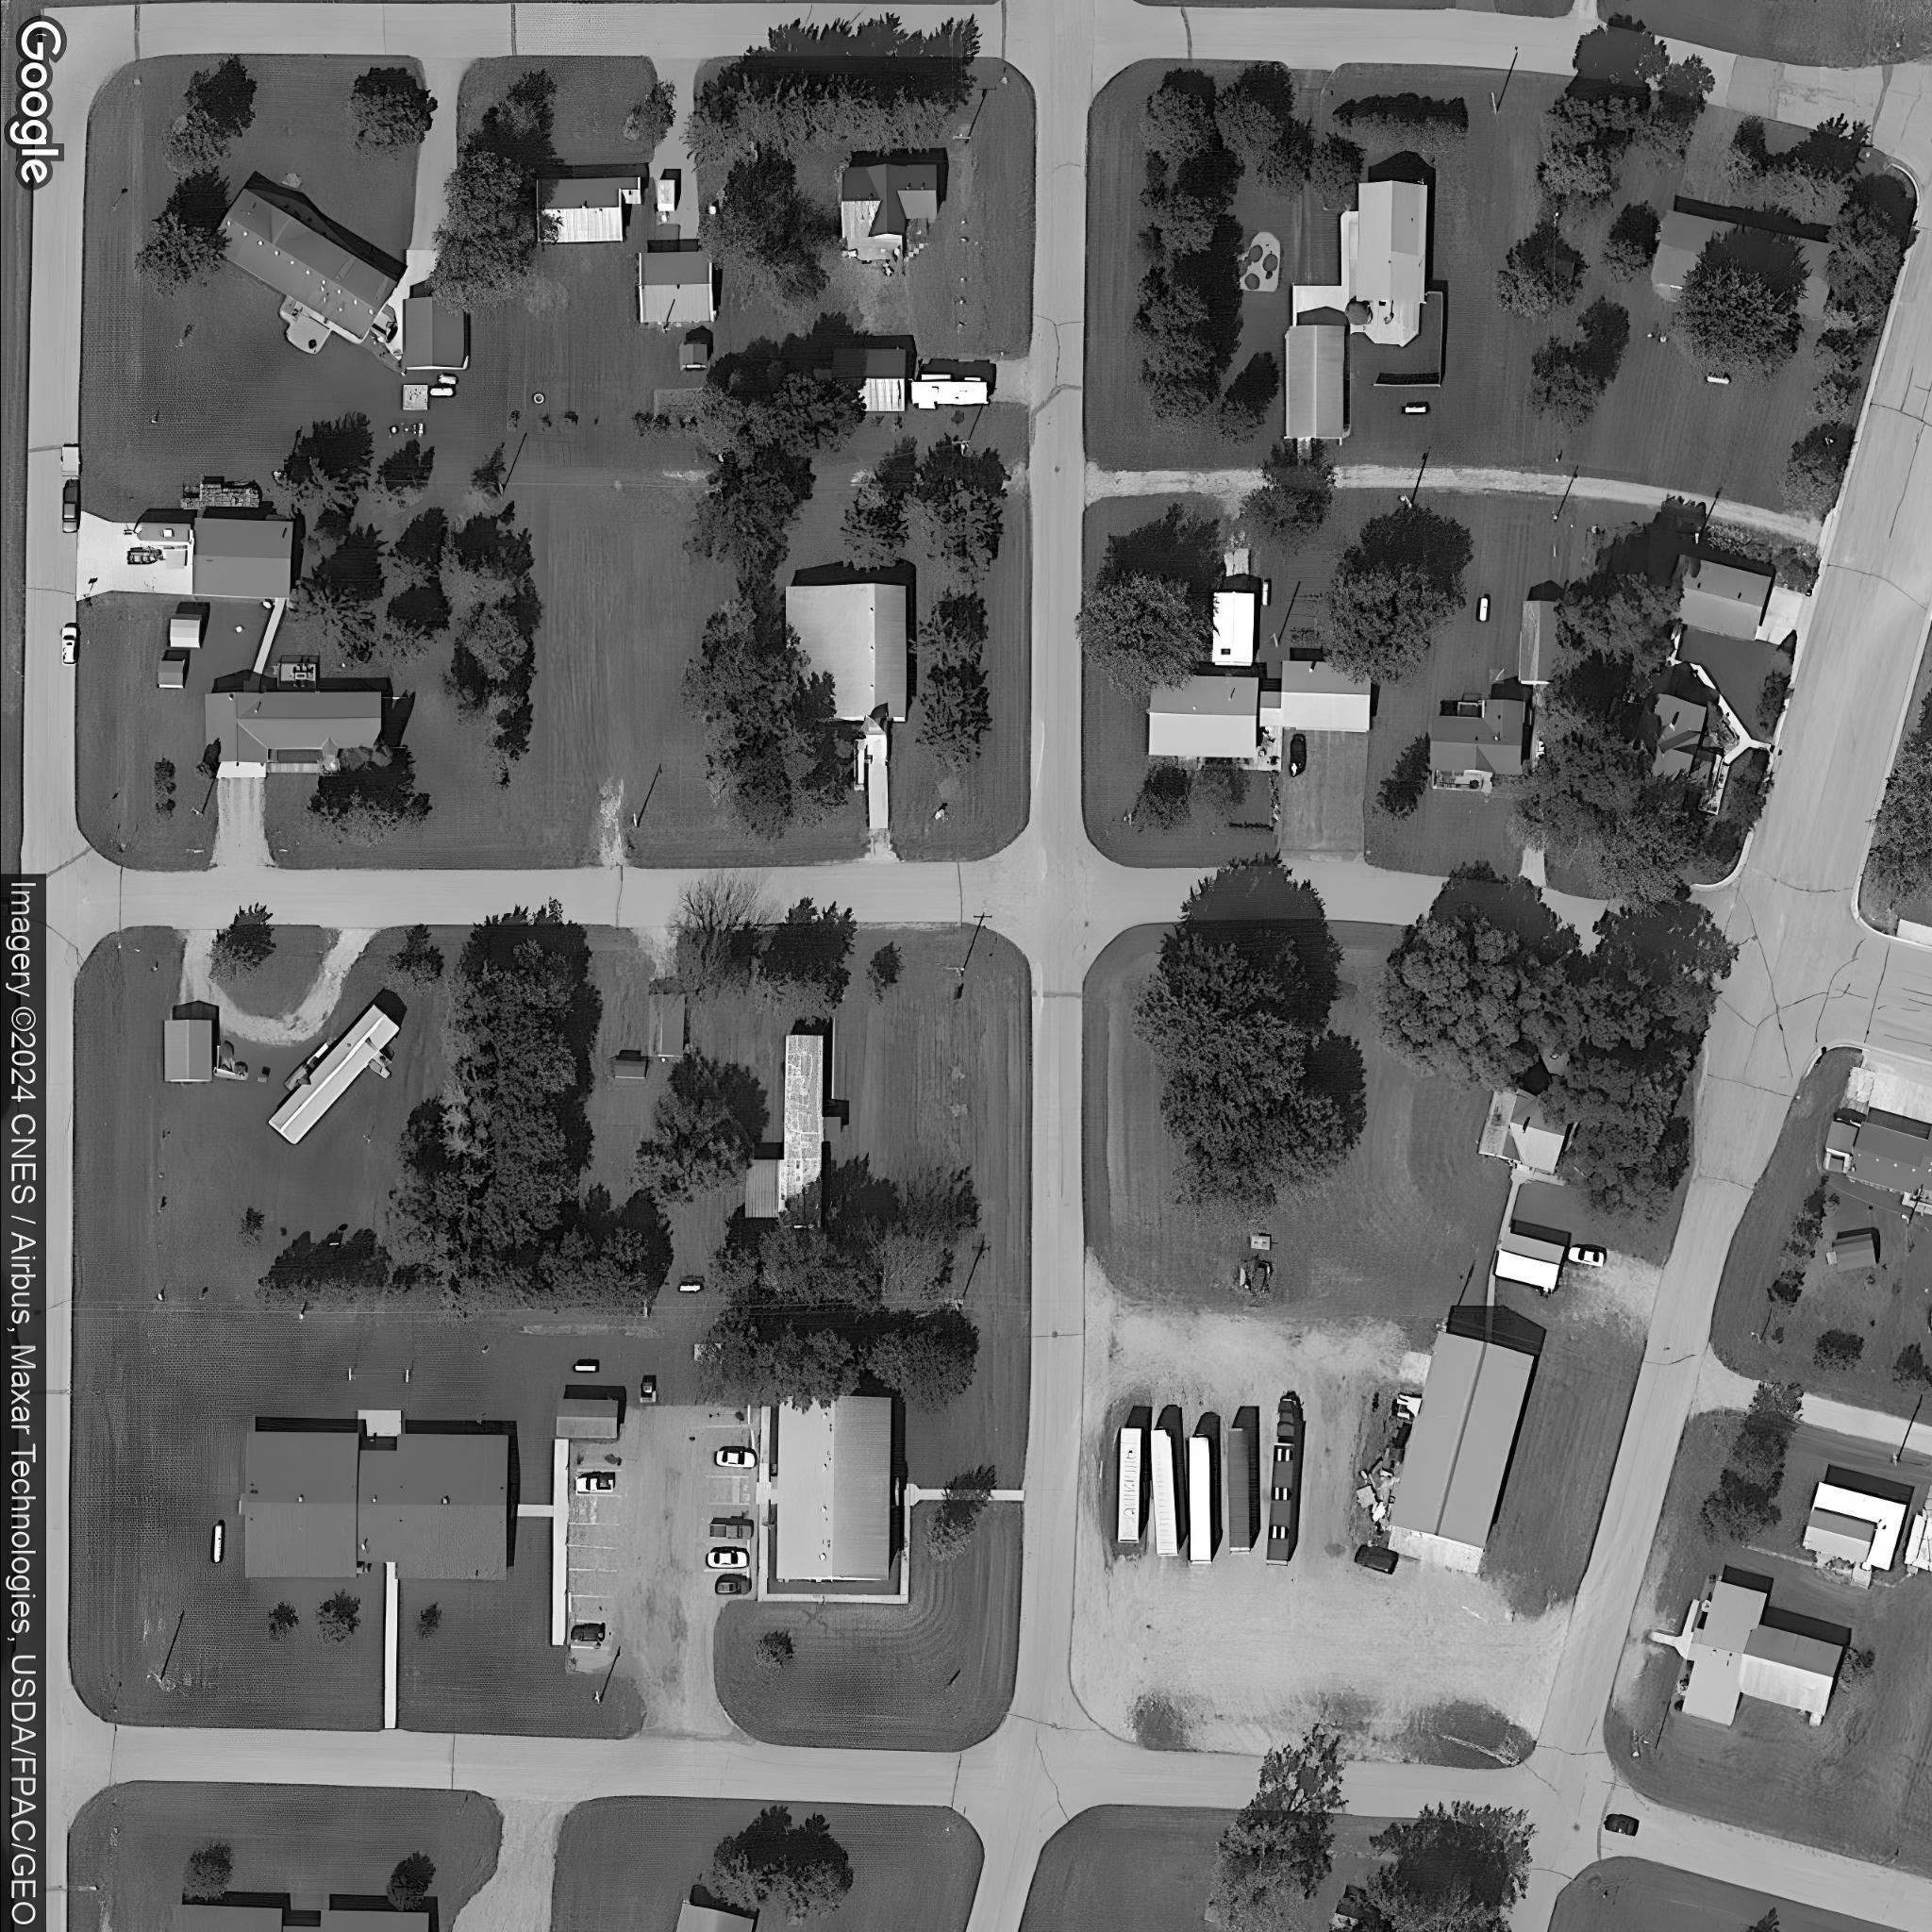Garage: (1661, 554, 1773, 640), (193, 517, 292, 600), (1284, 326, 1341, 439), (637, 251, 715, 324), (402, 297, 467, 368), (832, 350, 904, 410), (1495, 1231, 1560, 1290), (1212, 591, 1254, 667), (1520, 600, 1557, 685), (161, 1019, 211, 1083), (646, 993, 683, 1056)
House: (207, 186, 396, 341), (1679, 1582, 1842, 1725), (1146, 660, 1369, 757), (1649, 209, 1842, 318), (741, 1035, 840, 1228), (784, 586, 904, 738), (202, 694, 382, 764), (1819, 1116, 1932, 1200), (1801, 1481, 1907, 1569), (1631, 694, 1713, 807), (1355, 182, 1428, 303), (1477, 1085, 1569, 1175), (839, 163, 936, 239), (170, 1904, 428, 1932), (1428, 699, 1525, 773), (536, 177, 640, 244), (674, 1902, 754, 1932), (1902, 1511, 1932, 1575)
Other: (244, 1431, 506, 1580), (1385, 1332, 1532, 1550), (775, 1398, 892, 1580)
Propane: (211, 1522, 225, 1562), (570, 1359, 598, 1373), (1476, 594, 1490, 623), (1401, 402, 1430, 416), (1702, 372, 1730, 386), (676, 1283, 702, 1295), (426, 387, 455, 398), (1260, 580, 1269, 607)
Trailer: (265, 1007, 398, 1145)
